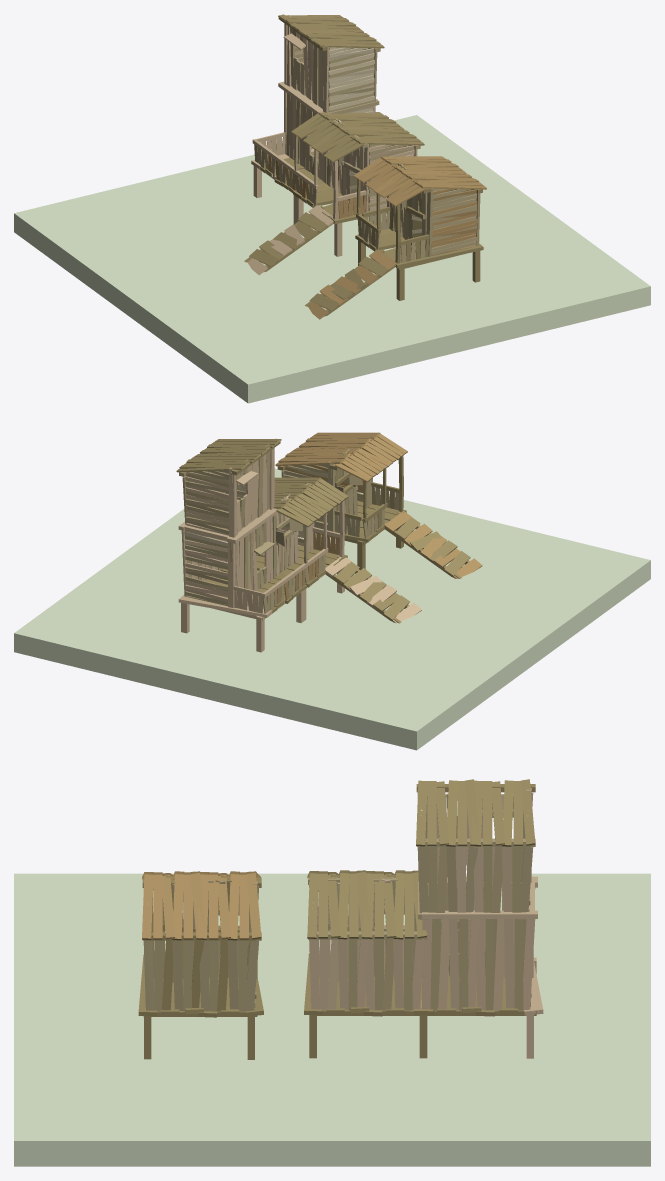
Rendered from wooden house.fbx.
The picture shows the model from 3 angles, top to bottom: view 1: azimuth 30°, elevation 25°; view 2: azimuth 150°, elevation 25°; view 3: azimuth 270°, elevation 25°; orthographic projection. The views are drawn at different scales.
Visible parts, largest first — view 1: GROUND, 2, 1; view 2: GROUND, 2, 1; view 3: GROUND, 2, 1.
Part boxes in pixels (left/top/right/bottom): GROUND: left=14, top=115, right=650, bottom=403; 2: left=244, top=14, right=424, bottom=275; 1: left=305, top=156, right=486, bottom=319; GROUND: left=14, top=468, right=650, bottom=750; 2: left=176, top=438, right=421, bottom=652; 1: left=275, top=432, right=482, bottom=578; GROUND: left=14, top=873, right=650, bottom=1166; 2: left=304, top=779, right=543, bottom=1058; 1: left=138, top=871, right=263, bottom=1059.
Bounding box in the file's own units: 4408 × 2046 × 4437.
